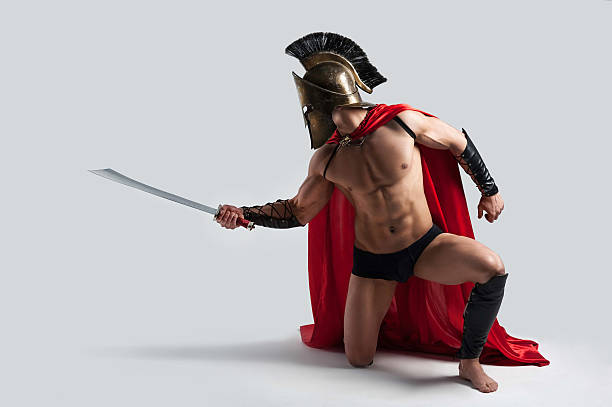knife: (85, 165, 259, 232)
